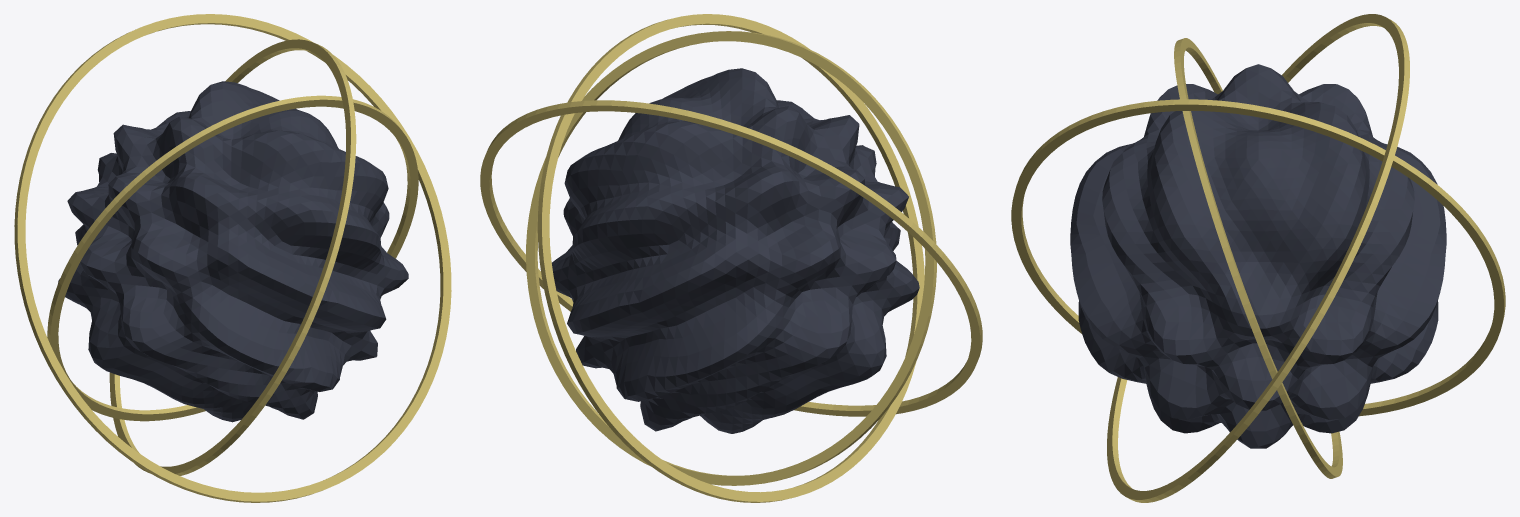
The model's file is gpu-artifact.glb.
3 renders of one model, left to right at view 1: azimuth 30°, elevation 25°; view 2: azimuth 150°, elevation 25°; view 3: azimuth 270°, elevation 25°, orthographic. The views are drawn at different scales.
Visible parts, largest first — view 1: zothos-lite_obsidian_core, zothos-lite_orbital_ring_2, zothos-lite_orbital_ring_0, zothos-lite_orbital_ring_1; view 2: zothos-lite_obsidian_core, zothos-lite_orbital_ring_1, zothos-lite_orbital_ring_0, zothos-lite_orbital_ring_2; view 3: zothos-lite_obsidian_core, zothos-lite_orbital_ring_1, zothos-lite_orbital_ring_2, zothos-lite_orbital_ring_0.
Boxes of the visible parts, bbox=[...] form: zothos-lite_obsidian_core: bbox=[58, 81, 408, 422]; zothos-lite_orbital_ring_2: bbox=[14, 14, 451, 502]; zothos-lite_orbital_ring_0: bbox=[47, 95, 418, 421]; zothos-lite_orbital_ring_1: bbox=[109, 39, 356, 475]; zothos-lite_obsidian_core: bbox=[552, 68, 919, 433]; zothos-lite_orbital_ring_1: bbox=[537, 14, 924, 502]; zothos-lite_orbital_ring_0: bbox=[526, 31, 936, 485]; zothos-lite_orbital_ring_2: bbox=[480, 100, 982, 416]; zothos-lite_obsidian_core: bbox=[1070, 64, 1446, 448]; zothos-lite_orbital_ring_1: bbox=[1011, 99, 1505, 416]; zothos-lite_orbital_ring_2: bbox=[1107, 14, 1409, 502]; zothos-lite_orbital_ring_0: bbox=[1174, 38, 1342, 478].
Bounding box in the file's own units: 3.23 × 2.75 × 2.93.
